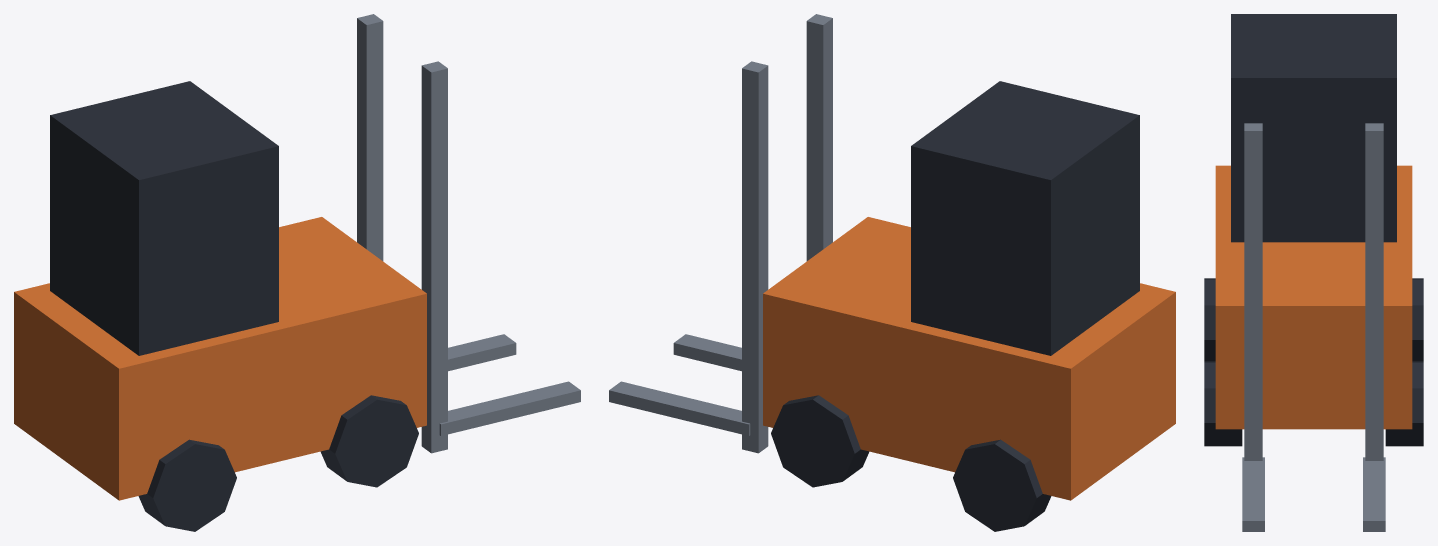
File: forklift.glb
3 renders of one model, left to right at view 1: azimuth 30°, elevation 25°; view 2: azimuth 150°, elevation 25°; view 3: azimuth 270°, elevation 25°, orthographic. The views are drawn at different scales.
Parts seen in each view (by area): view 1: forklift; view 2: forklift; view 3: forklift.
Boxes of the visible parts, left/top/right/bottom form: forklift: left=14, top=14, right=580, bottom=531; forklift: left=609, top=14, right=1175, bottom=531; forklift: left=1204, top=14, right=1423, bottom=531.
Size of the model in its own units: 3.4 by 2.6 by 1.45.
